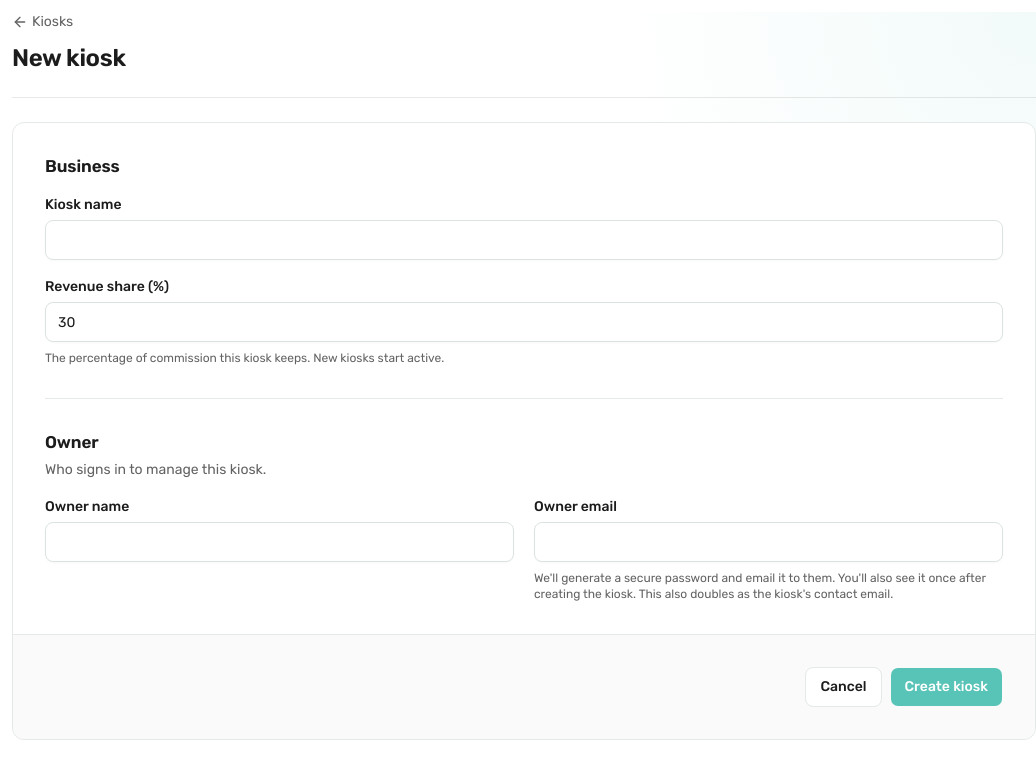
Test: NewKioskPage › submits the create request and shows the generated password as a result panel
Type "Kiosk Three" into the field labelled "Kiosk name".
click(524, 240); type("Kiosk Three")  # box [45,220,1003,260]
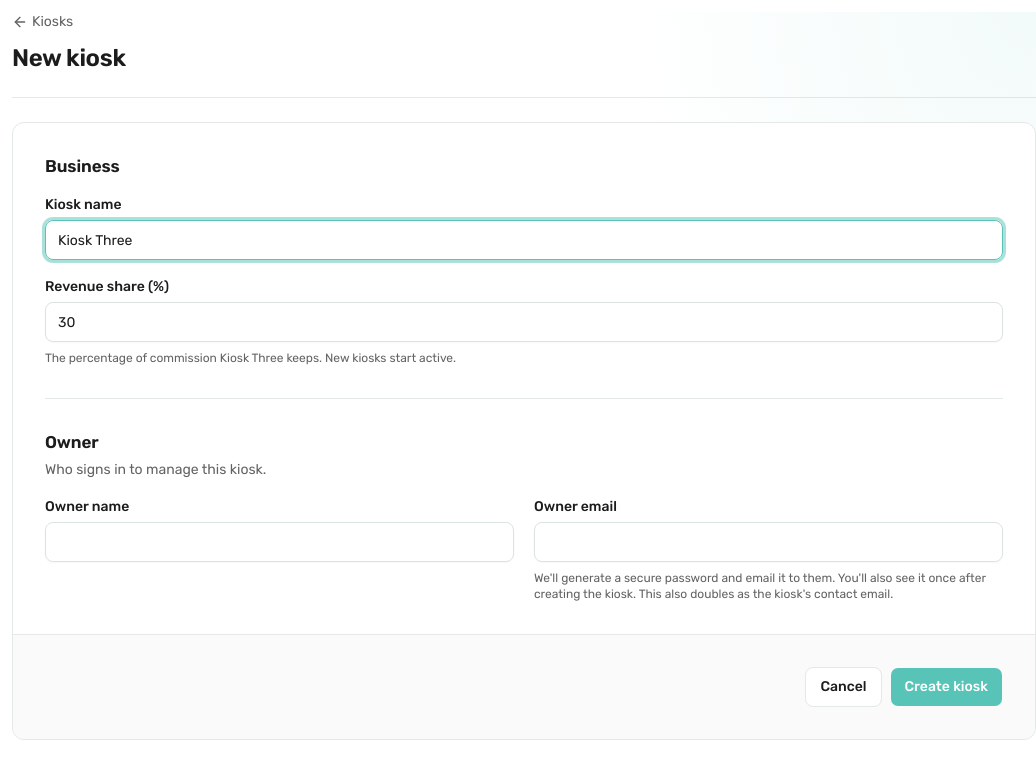
Replace the text in the number field labelled "Revenue share (%)" with "40" at (524, 322), box [45,302,1003,342]
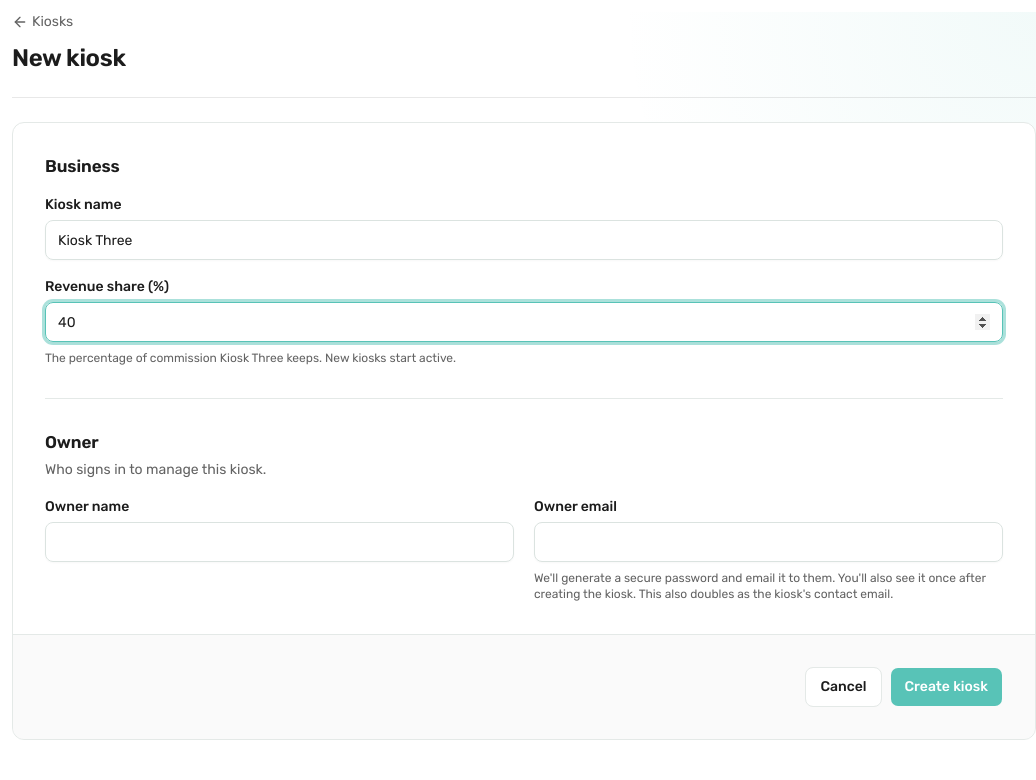
Type "New Owner" into the field labelled "Owner name".
click(280, 542); type("New Owner")  # box [45,522,514,562]
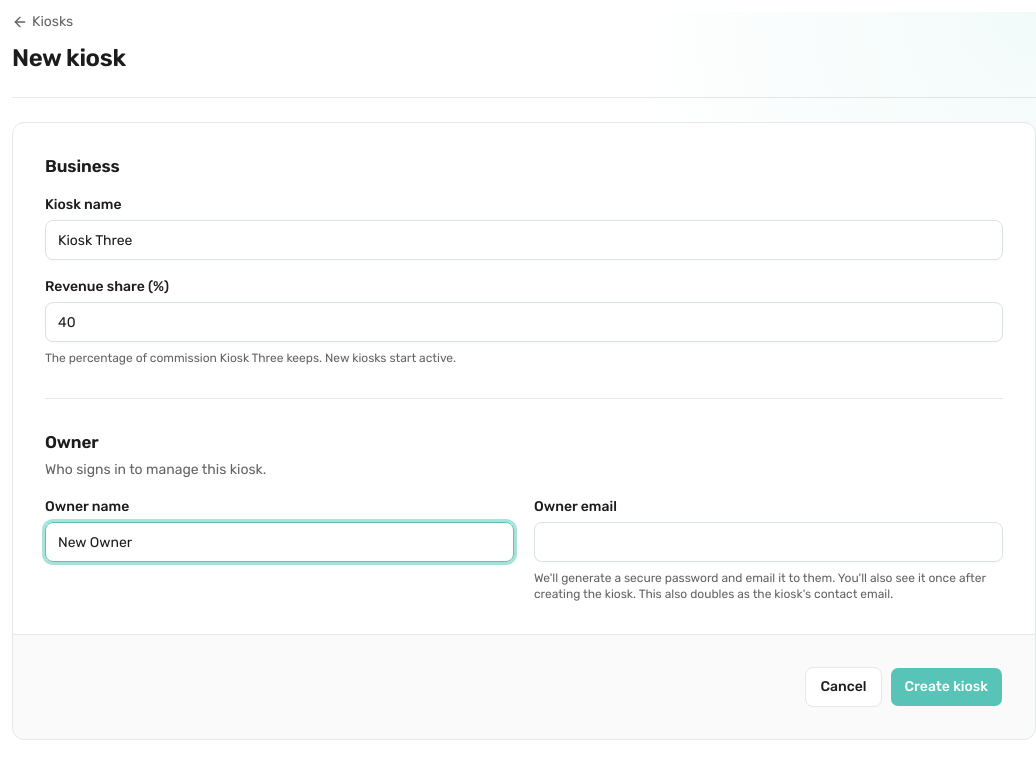
Type "newowner3@example.com" into the field labelled "Owner email".
click(768, 542); type("newowner3@example.com")  # box [534,522,1003,562]
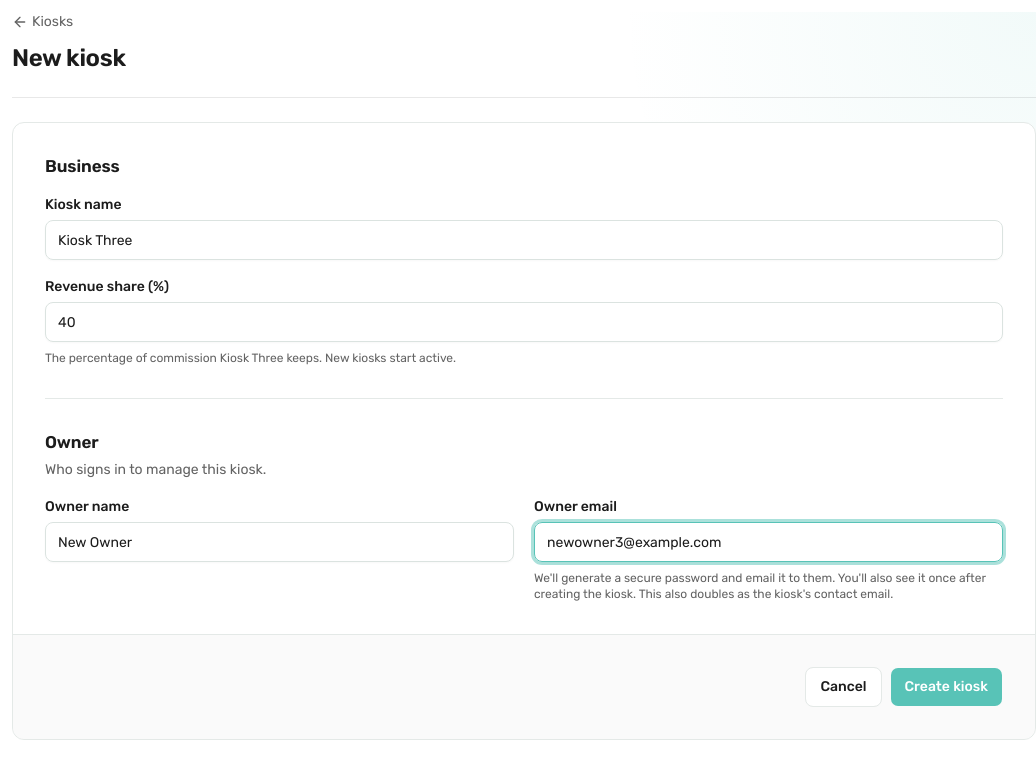
Click the button "Create kiosk".
click(946, 687)  # box [890,667,1003,707]
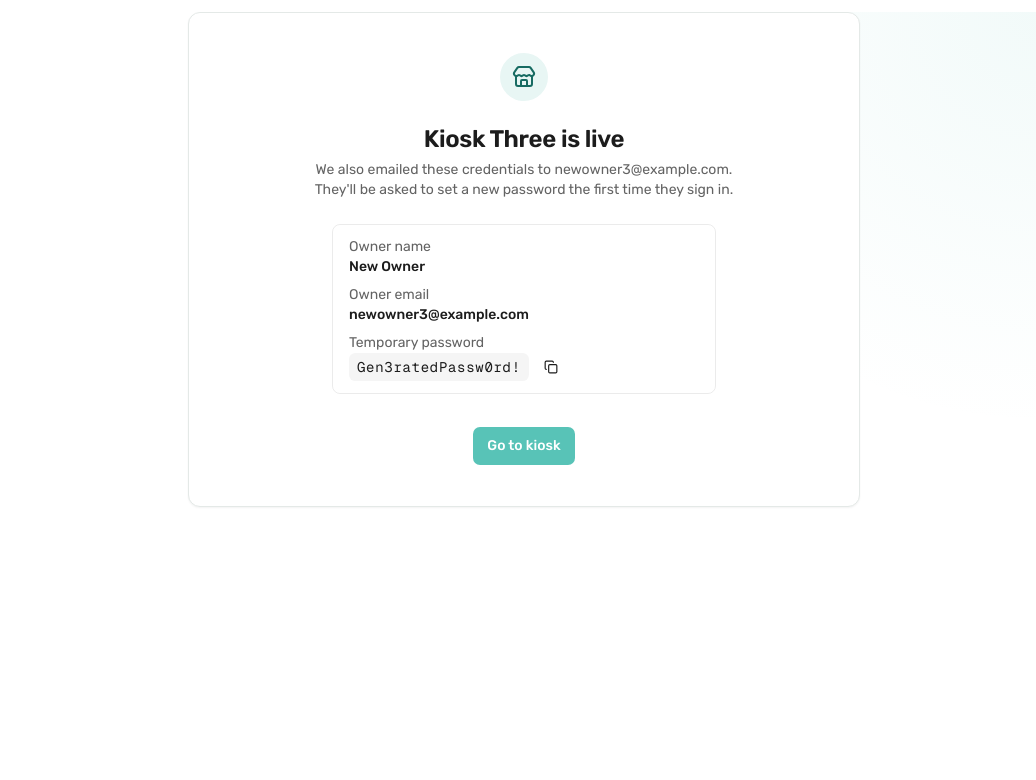
Expected: the text "Gen3ratedPassw0rd!" is shown, [349,353,529,381]
Expected: the label labelled "Kiosk name" is gone
